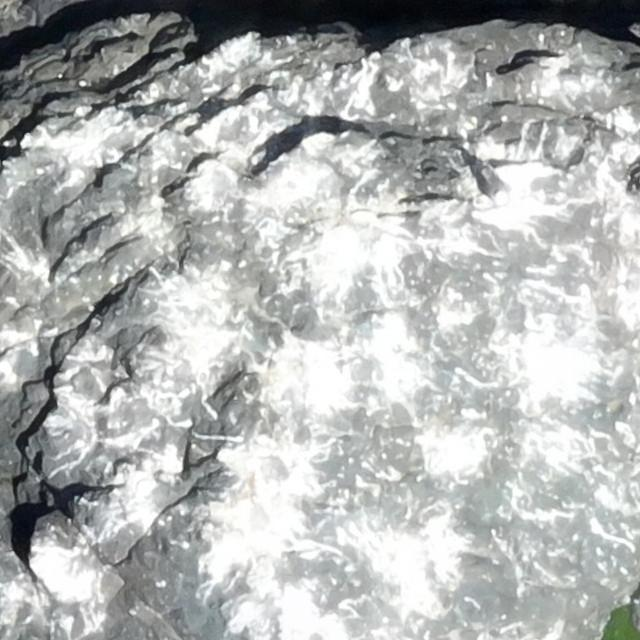umineko: (476, 164, 507, 206)
